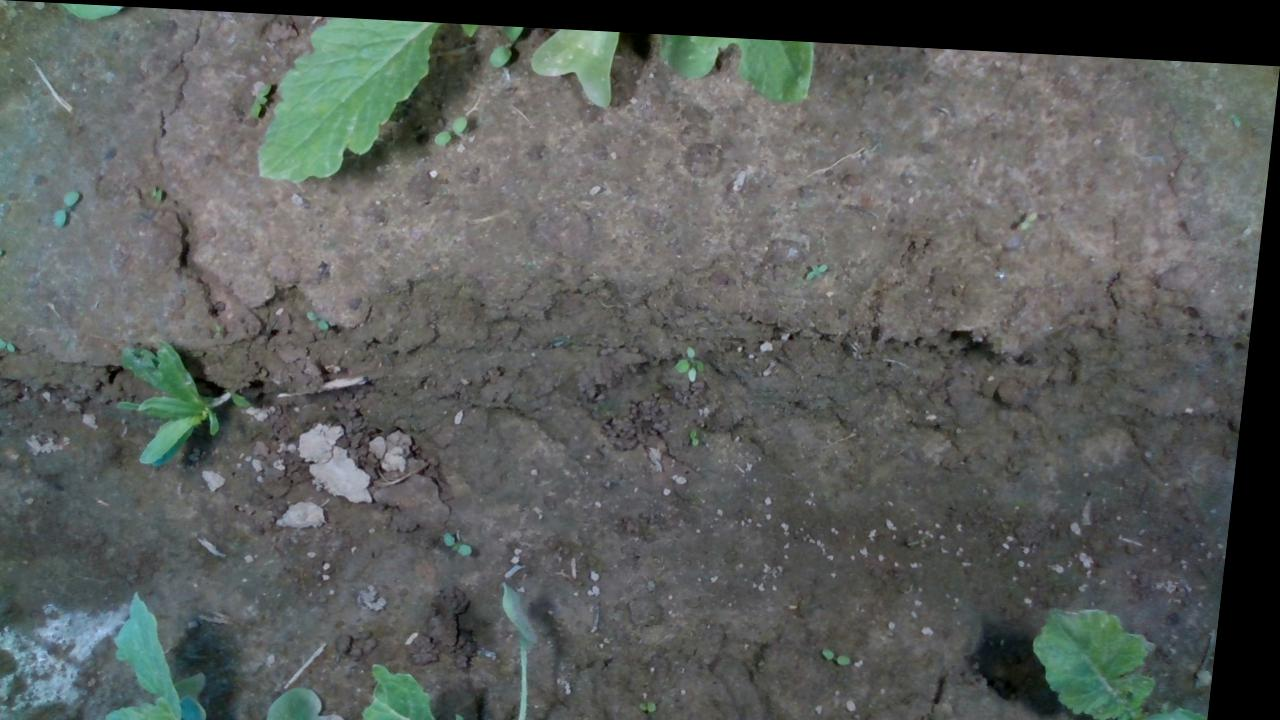weed: (434, 107, 471, 144), (678, 335, 713, 373), (55, 185, 85, 229), (248, 76, 273, 117), (452, 524, 487, 551), (832, 635, 868, 656), (310, 304, 339, 327), (807, 251, 834, 272), (1022, 196, 1042, 220), (0, 333, 25, 352), (150, 182, 169, 200), (650, 689, 672, 704), (695, 418, 710, 439), (0, 245, 10, 262)
